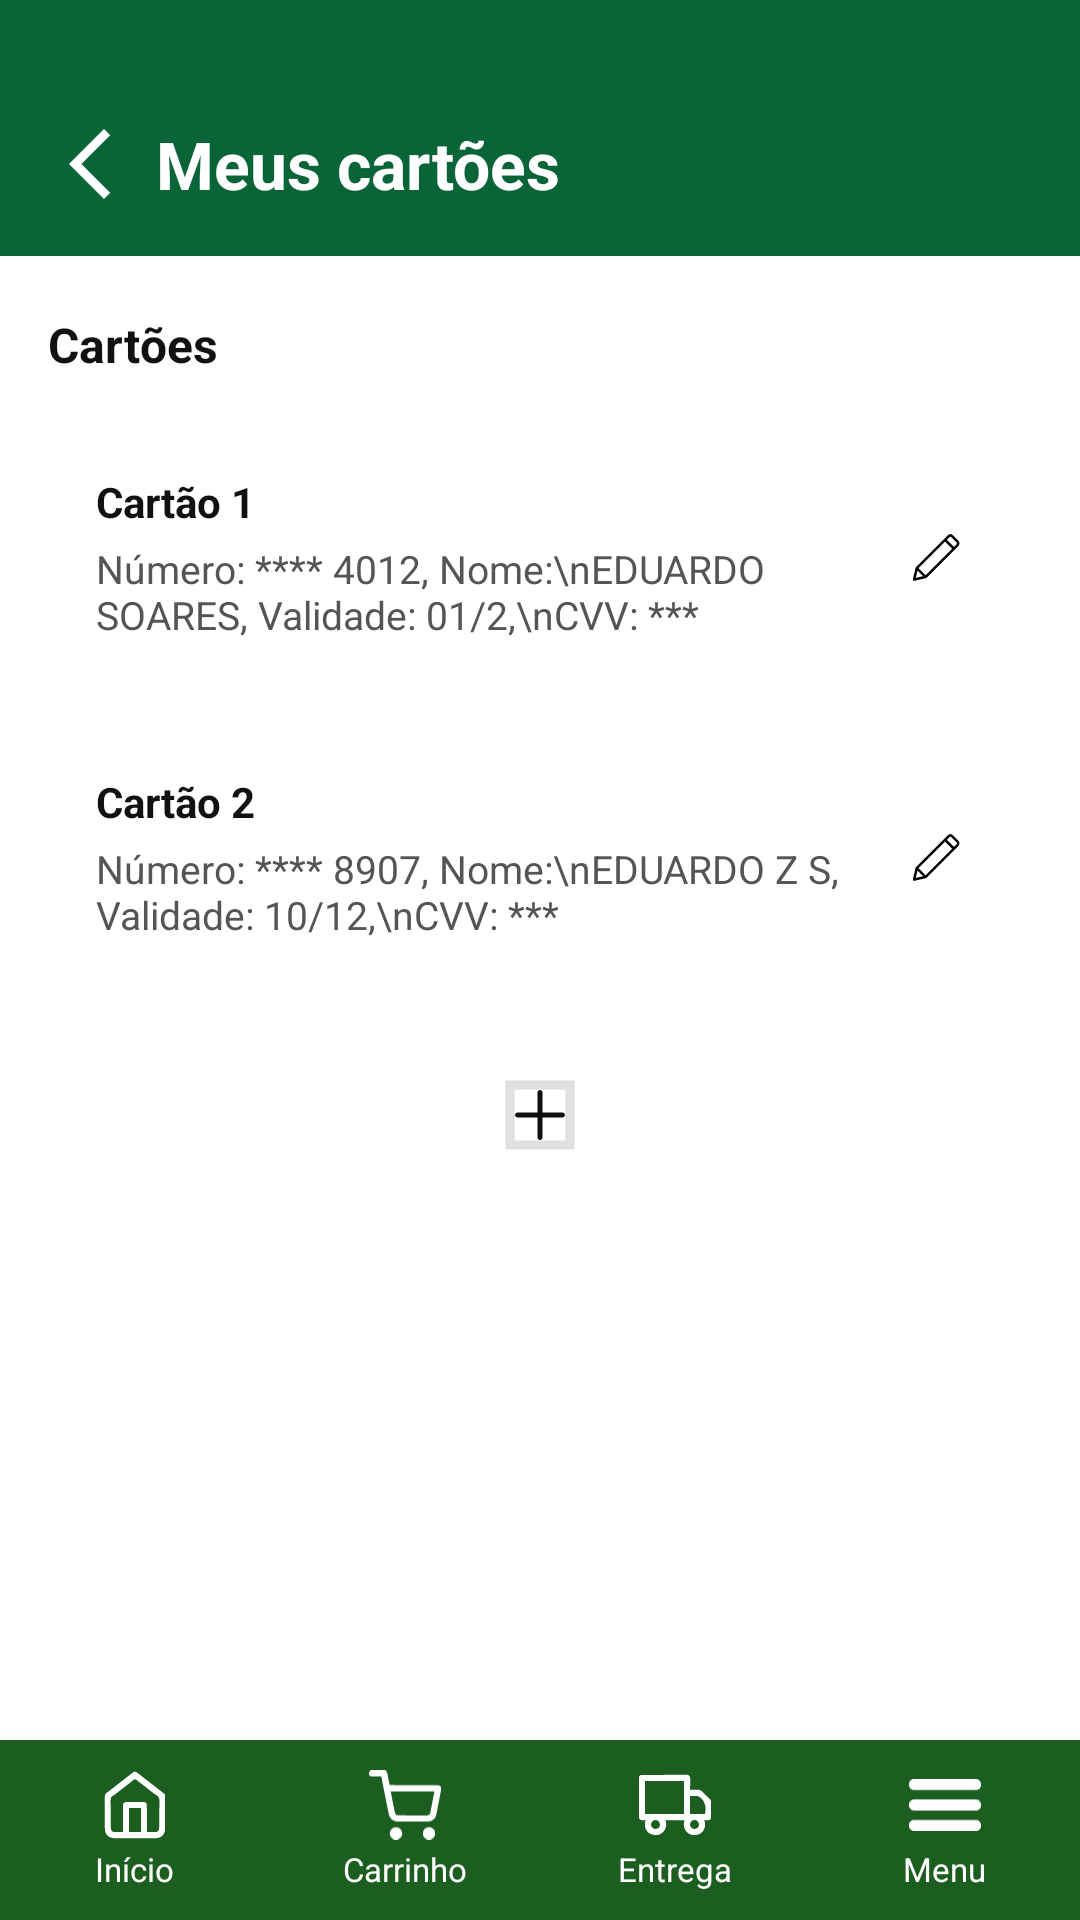

Icon bounding boxes for this 1080 × 1920 phone screenshot, format (left=x1, top=y1, right=x2, bottom=y2):
add: (left=506, top=1081, right=574, bottom=1149)
Editar cartão: (left=913, top=534, right=960, bottom=581), (left=913, top=834, right=960, bottom=881)
Voltar: (left=69, top=129, right=110, bottom=199)
